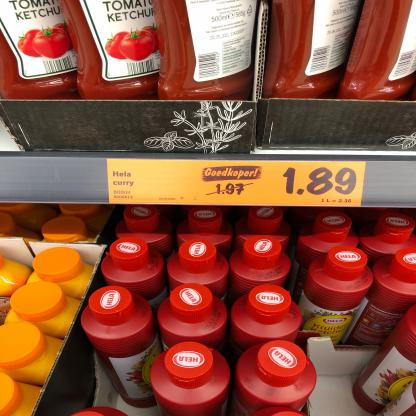prtg: (108, 160, 367, 208)
